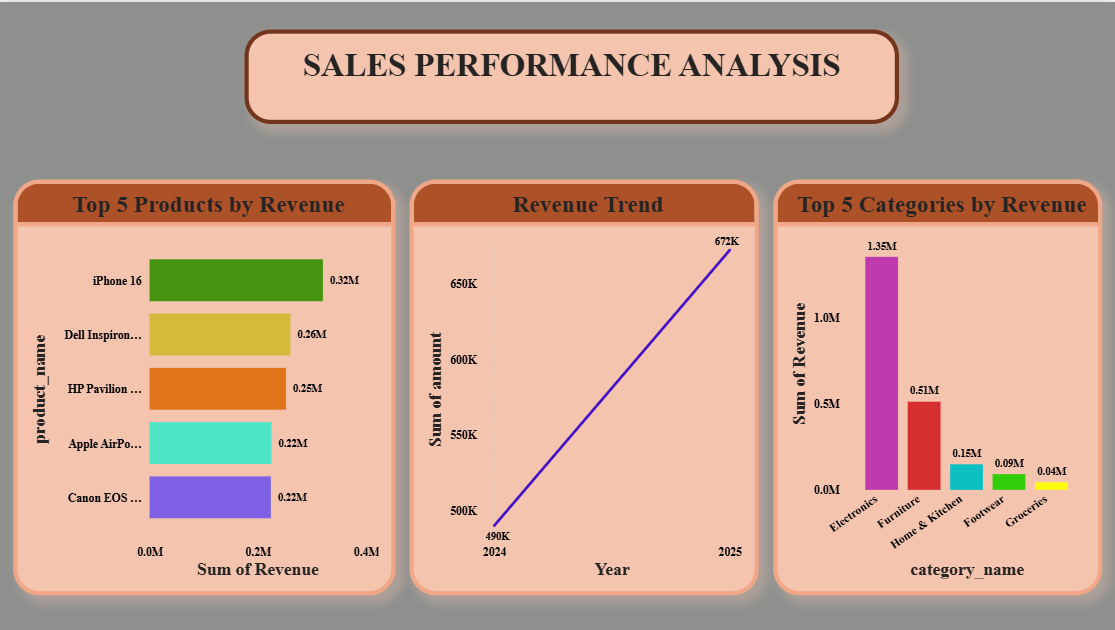

The page's visual inventory and layout, read from the dashboard file:
{"tool":"powerbi","page":{"name":"Sales Performance Analysis","canvas":[1280,720],"ordinal":1},"visuals":[{"type":"barChart","title":"Top 5 Products by Revenue","fields":{"Category":["products.product_name"],"Y":["Sum(product_revenue.Revenue)"]},"box":[18.5,203,437.2,475.5],"z":0},{"type":"lineChart","title":"Revenue Trend","fields":{"Category":["orders.order_date.Variation.Date Hierarchy.Year"],"Y":["Sum(payments.amount)"]},"box":[471.2,203,398.8,475.5],"z":1000},{"type":"columnChart","title":"Top 5 Categories by Revenue","fields":{"Category":["categories.category_name"],"Y":["Sum(product_revenue.Revenue)"]},"box":[887.1,203,376.1,475.5],"z":2000},{"type":"textbox","box":[282.5,31.2,748,107.9],"z":3000}]}

Visuals, with their boxes in screenshot pixels (x1, y1, x2, y2), scaled from the page's 1280x720 canvas onto the 1115x630 screenshot:
"Top 5 Products by Revenue" barChart: x1=16, y1=178, x2=397, y2=594
"Revenue Trend" lineChart: x1=410, y1=178, x2=758, y2=594
"Top 5 Categories by Revenue" columnChart: x1=773, y1=178, x2=1100, y2=594
textbox: x1=246, y1=27, x2=898, y2=122
